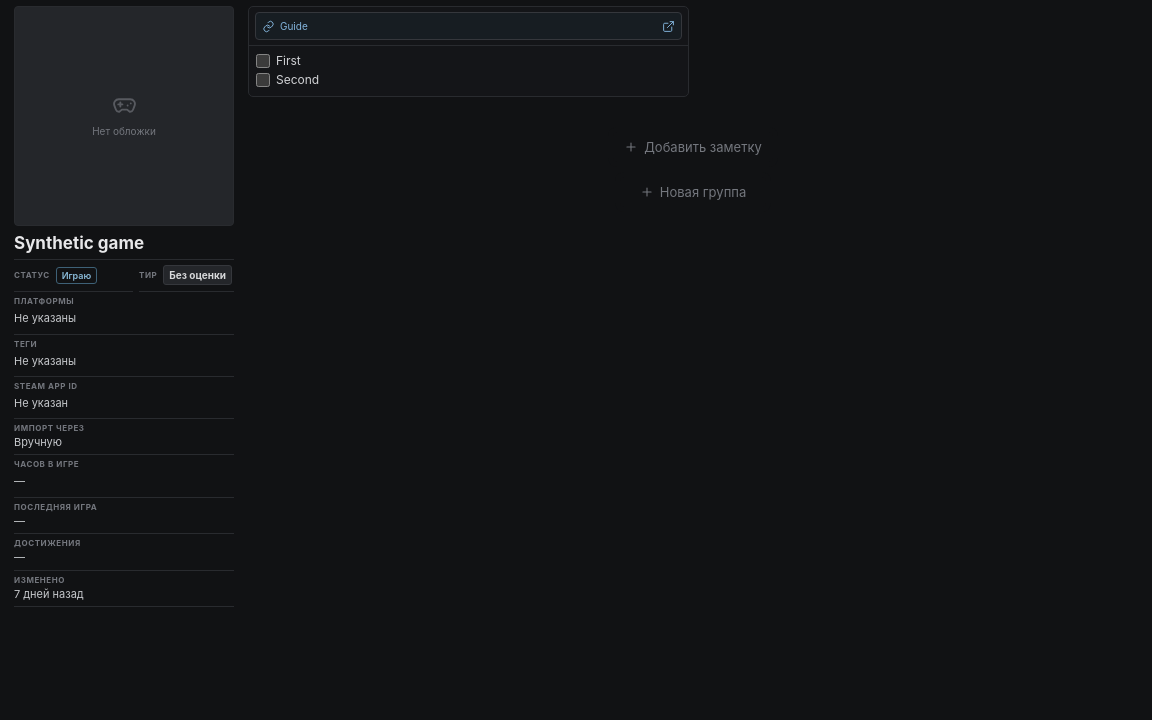
Test: Markdown task lists › does not start concurrent saves from rapid task clicks
Click the checkbox named "Отметить: First". click: [263, 61]
box: [256,54,270,68]
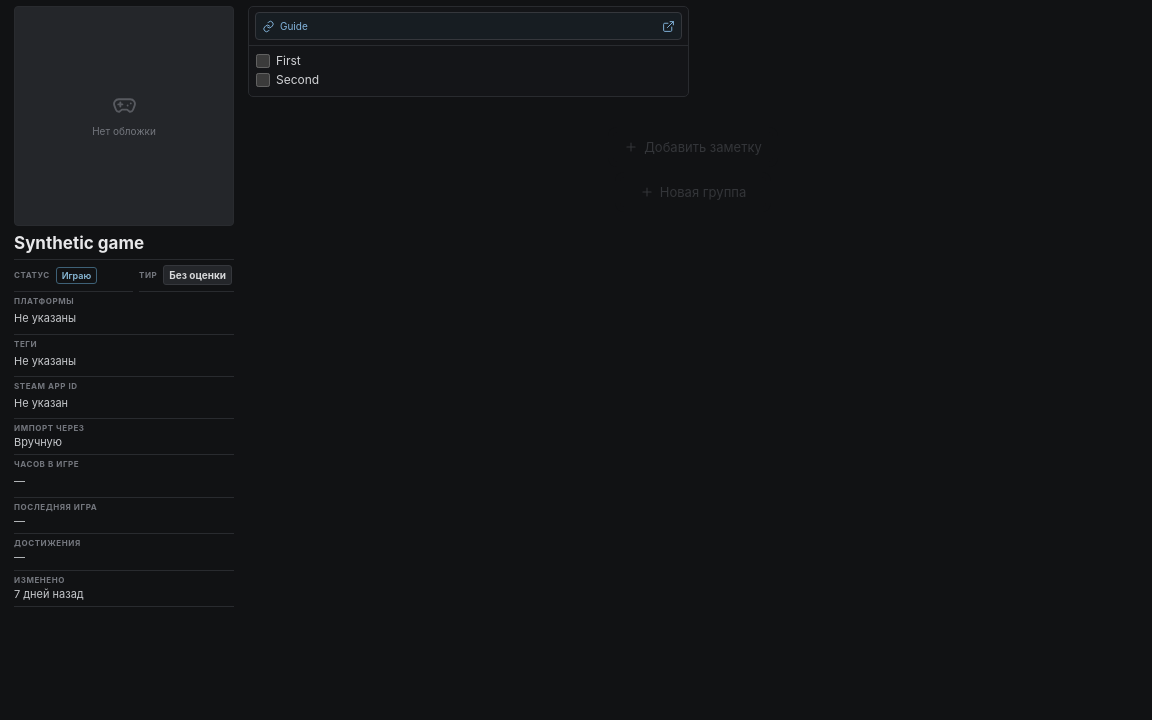
expect the checkbox named "Отметить: Second" is disabled: met
Click the checkbox named "Отметить: Second". click: [263, 80]
box: [256,73,270,87]
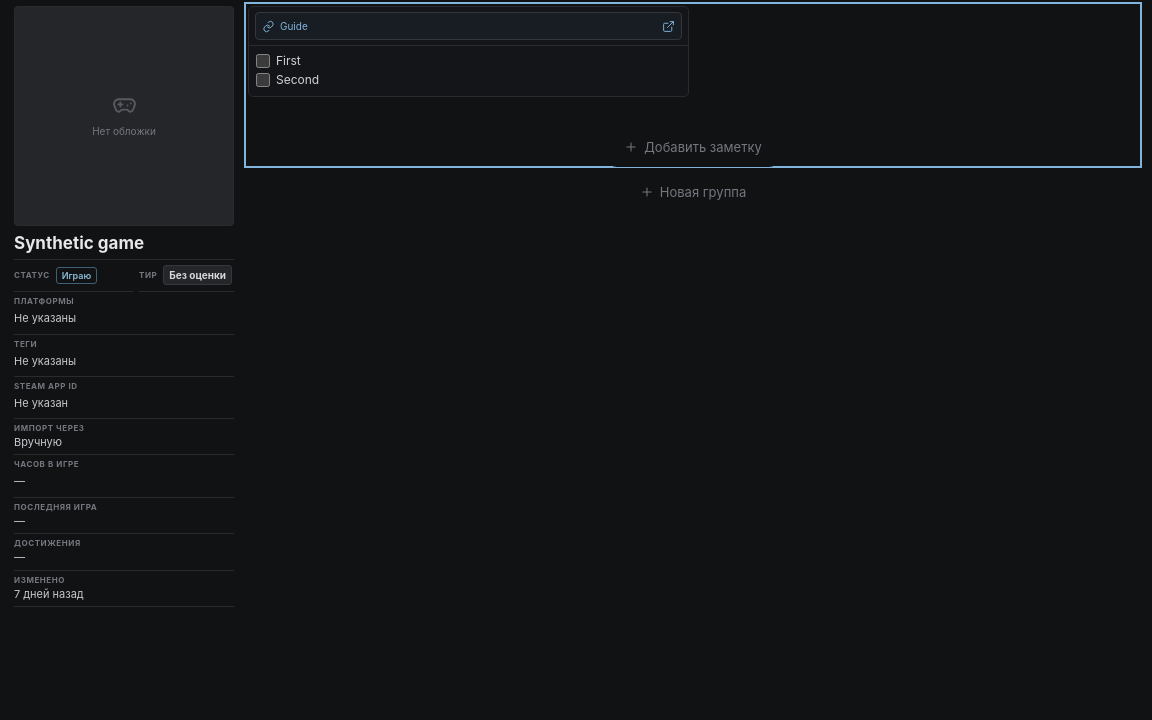
expect the checkbox named "Отметить: Second" is enabled: met, box [256,73,270,87]
